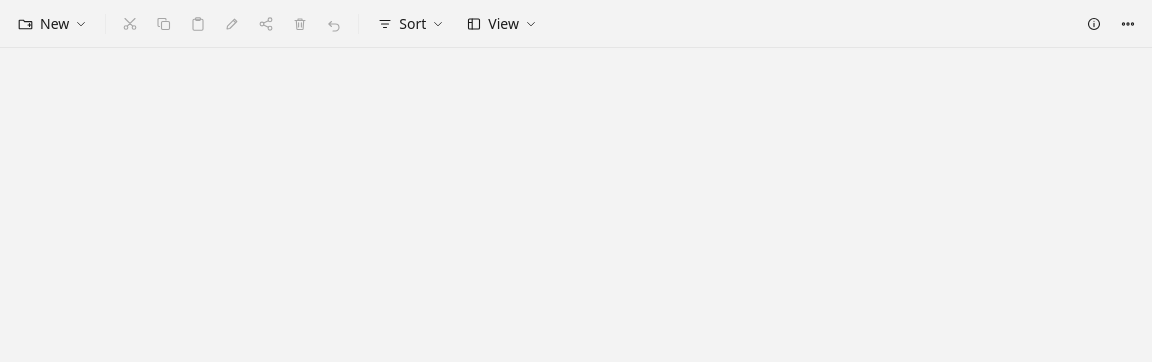
Test case: Toolbar — More menu › switching from one open menu to another closes the first
Click the button "Sort". click: coordinates (411, 24)
box: 367,8 -> 454,40
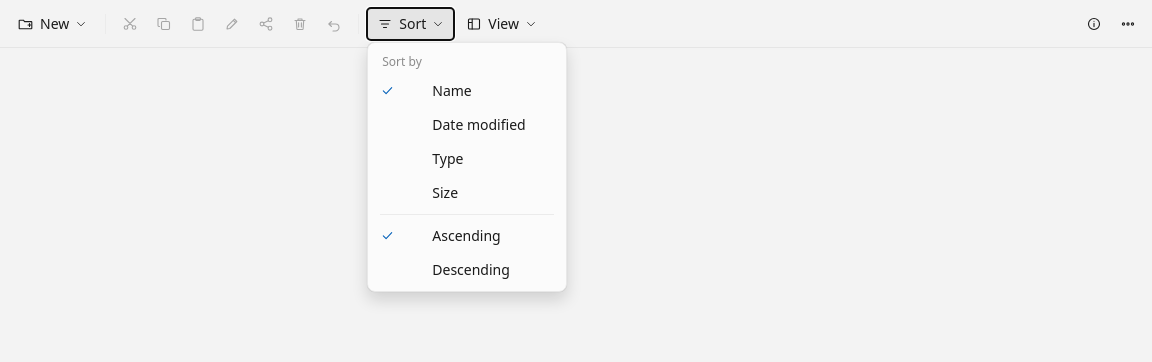
Check: the menu item "Name" is shown, box 380,81 -> 472,100
# Open View while Sort is open → openMenu switches.
Click the button "View". click: coordinates (502, 24)
box: 456,8 -> 547,40
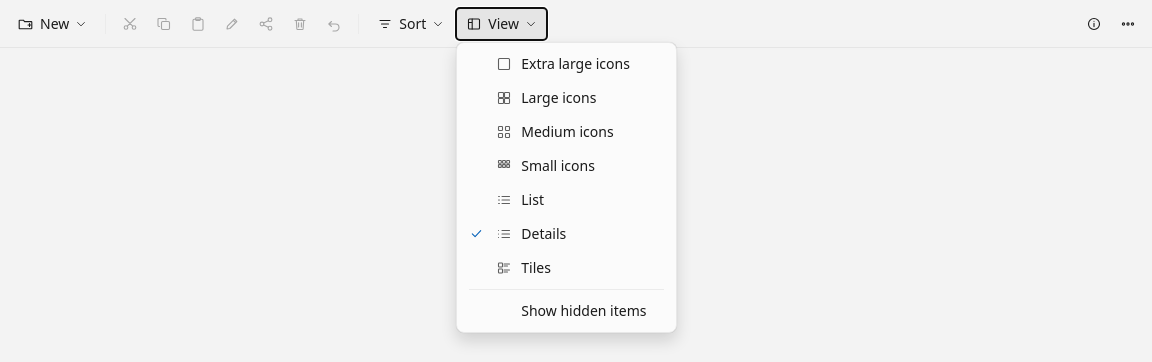
Check: the menu item "List" is shown, box 496,190 -> 544,209
Check: the menu item "Name" is gone
